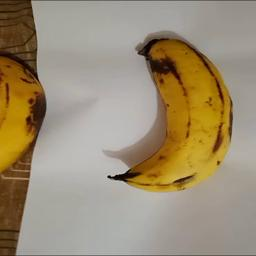Banana Semifresh: (112, 38, 234, 193), (0, 36, 45, 175)
